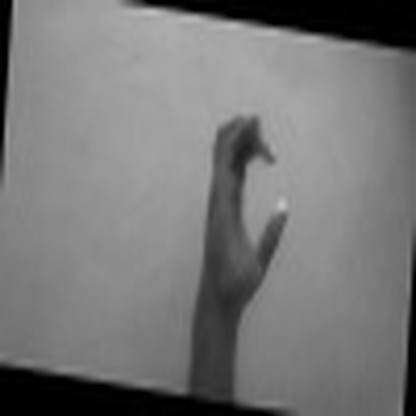c: (202, 106, 292, 309)
